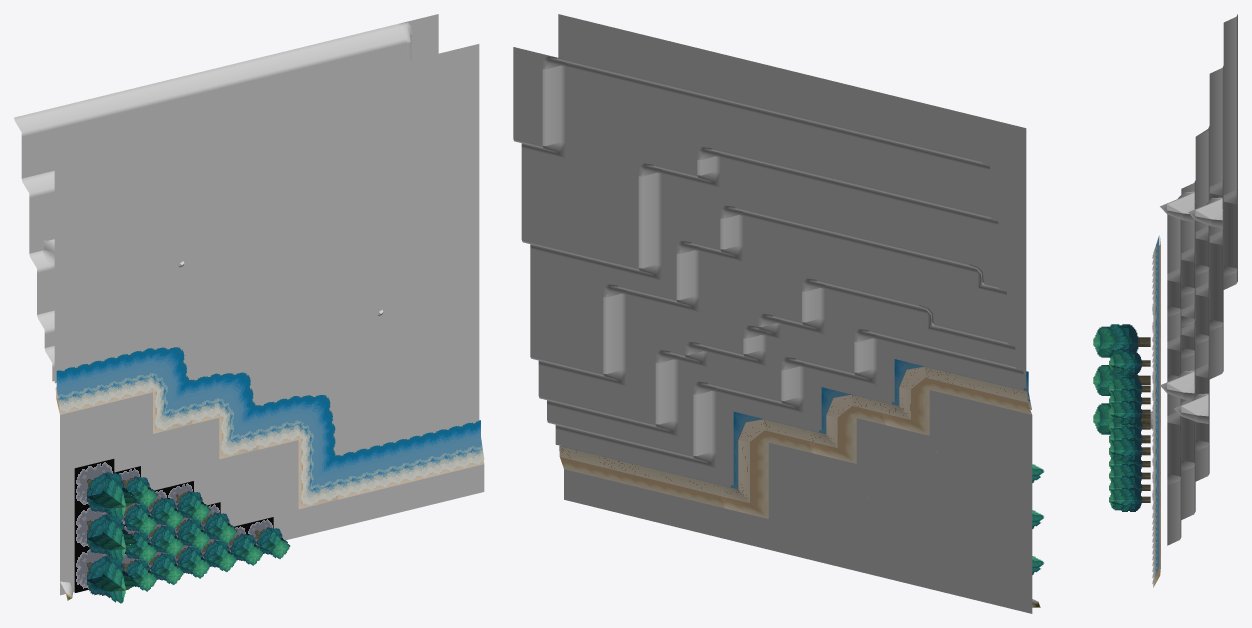
The model's file is Asteria_28_01.obj.
The picture shows the model from 3 angles, left to right: view 1: azimuth 30°, elevation 25°; view 2: azimuth 150°, elevation 25°; view 3: azimuth 270°, elevation 25°; orthographic projection. The views are drawn at different scales.
Parts seen in each view (by area): view 1: map; view 2: map; view 3: map.
Boxes of the visible parts, x1=… form: map: x1=14, y1=14, x2=484, y2=603; map: x1=513, y1=14, x2=1044, y2=613; map: x1=1093, y1=14, x2=1237, y2=587.
Bounding box in the file's own units: 32.11 × 32 × 10.75.
